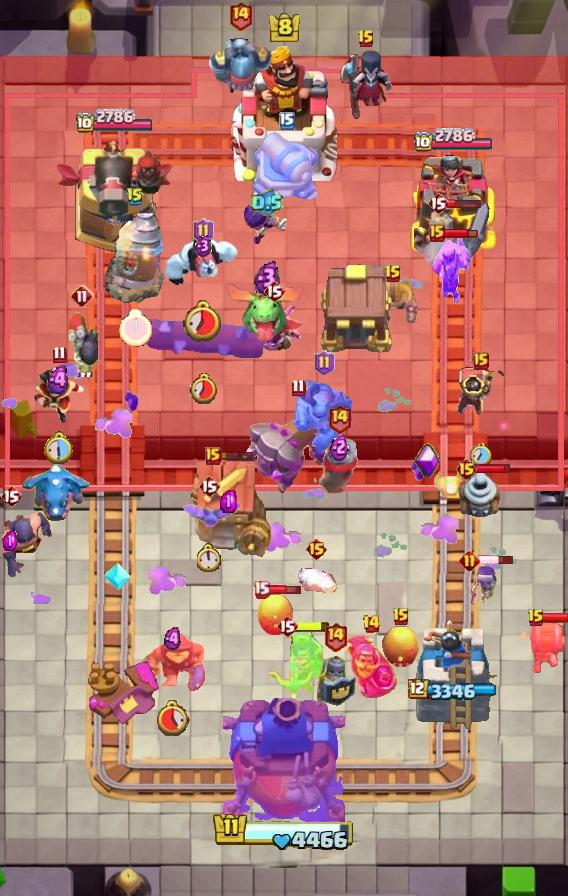archer-evolution: (244, 305, 304, 355)
bar: (295, 620, 331, 633), (267, 583, 302, 596), (478, 554, 515, 566), (219, 450, 256, 462), (443, 227, 478, 239), (447, 197, 482, 209), (475, 463, 512, 474), (542, 612, 568, 624)
bar-level: (323, 621, 348, 652), (327, 403, 352, 434), (228, 0, 253, 31), (70, 284, 94, 308), (305, 537, 328, 561), (455, 457, 478, 481), (314, 350, 335, 376), (193, 218, 214, 244), (276, 614, 298, 638), (0, 484, 22, 508), (198, 474, 220, 498), (263, 279, 285, 303), (427, 191, 449, 215), (459, 550, 480, 571), (362, 614, 381, 634), (527, 608, 545, 628), (392, 607, 410, 627), (384, 264, 402, 284), (126, 187, 144, 207), (357, 29, 375, 49), (253, 580, 270, 599), (205, 447, 221, 465), (473, 352, 489, 370), (429, 224, 445, 242), (279, 112, 295, 130), (291, 378, 306, 397), (52, 345, 67, 364)
barbarian-evolution: (429, 237, 473, 305)
bat-evolution: (176, 501, 242, 529)
bomber: (66, 311, 98, 377)
bomber-evolution: (243, 193, 291, 247)
cannoneer-tower: (53, 138, 175, 256)
clock: (182, 299, 224, 342), (154, 699, 190, 736), (119, 309, 152, 347), (44, 431, 75, 465), (189, 372, 219, 404), (197, 543, 222, 572), (470, 443, 492, 467)
electro-dragon: (20, 461, 92, 525)
electro-wizard: (31, 367, 87, 425)
elite-barbarian: (368, 275, 418, 327)
elixir: (254, 260, 281, 296), (251, 189, 283, 217), (45, 365, 73, 395), (330, 432, 349, 461), (164, 627, 181, 651), (220, 490, 237, 513), (195, 235, 212, 257), (3, 531, 17, 551)
evolution-symbol: (414, 443, 440, 479)
executioner: (0, 510, 52, 582)
guard: (312, 645, 358, 709)
ice-spirit-evolution-symbol: (103, 561, 131, 593)
king-tower: (223, 698, 345, 826), (231, 43, 337, 181)
king-tower-bar: (212, 811, 356, 853)
knight: (308, 433, 370, 499)
knight-evolution: (345, 633, 398, 698)
lava-pup: (426, 462, 470, 498), (295, 566, 337, 596)
little-prince: (453, 362, 509, 418)
mega-minion: (293, 379, 355, 457), (207, 27, 273, 95)
night-witch: (338, 48, 394, 124)
phoenix-egg: (381, 625, 421, 669), (255, 593, 295, 637)
queen-tower: (409, 616, 497, 731), (408, 154, 498, 256)
royal-ghost: (414, 202, 492, 282)
skeleton-evolution: (468, 564, 500, 606)
the-log: (142, 318, 266, 358)
tower-bar: (413, 128, 494, 154), (408, 679, 499, 702), (75, 109, 154, 135)
wall-breaker: (518, 619, 568, 675)
zappy: (456, 465, 502, 519)
